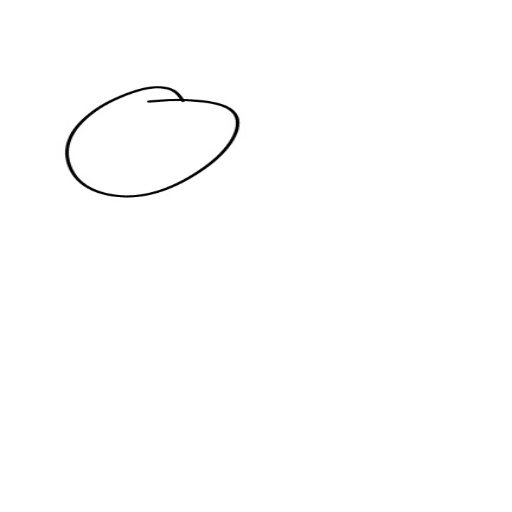circle: (60, 81, 243, 207)
